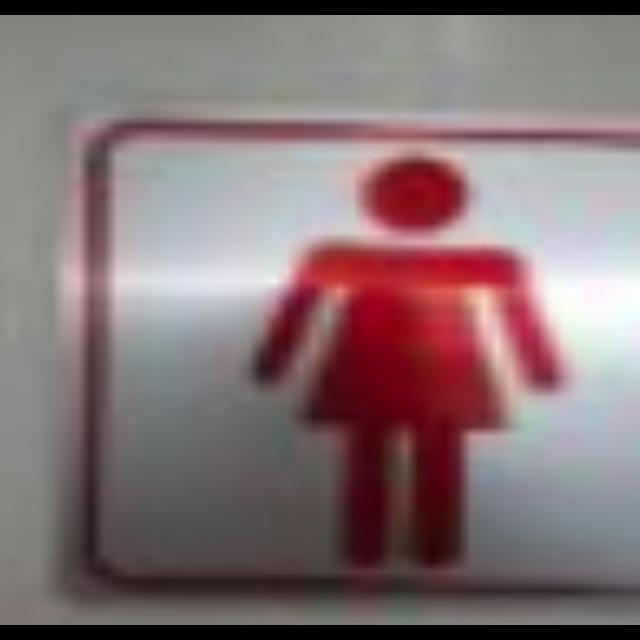wc nu: (65, 117, 639, 596)
